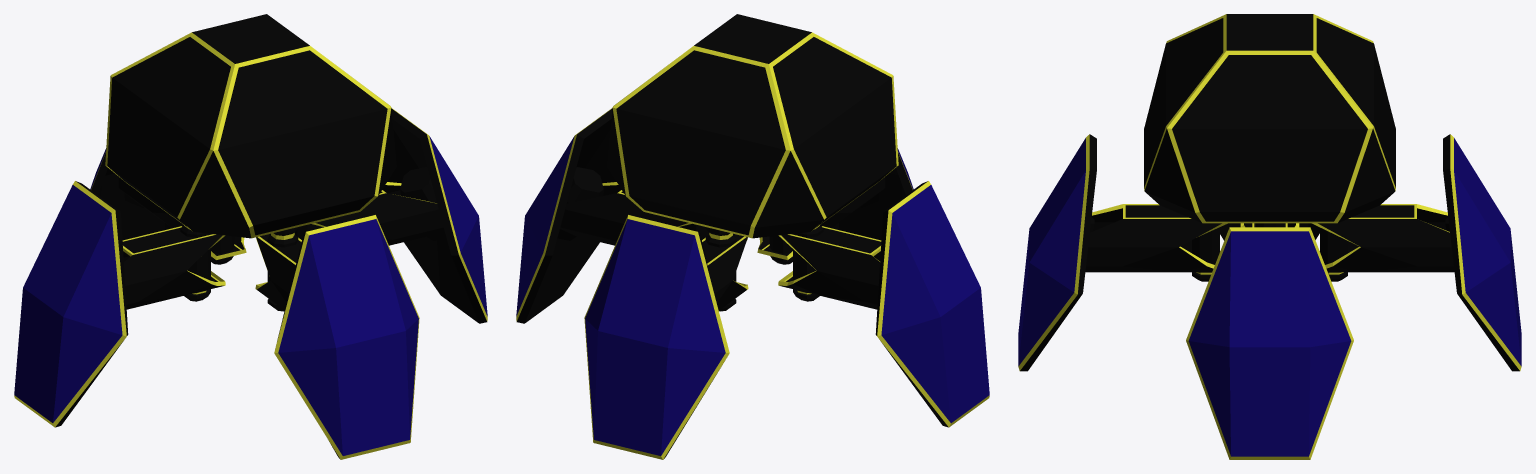
File: Soldier.fbx
The picture shows the model from 3 angles, left to right: view 1: azimuth 30°, elevation 25°; view 2: azimuth 150°, elevation 25°; view 3: azimuth 270°, elevation 25°; orthographic projection.
Parts seen in each view (by area): view 1: Cube; view 2: Cube; view 3: Cube.
Part boxes in pixels (bbox=[...]): Cube: bbox=[14, 14, 487, 459]; Cube: bbox=[516, 14, 989, 459]; Cube: bbox=[1018, 14, 1521, 459].
Bounding box in the file's own units: 598 × 423 × 598.
